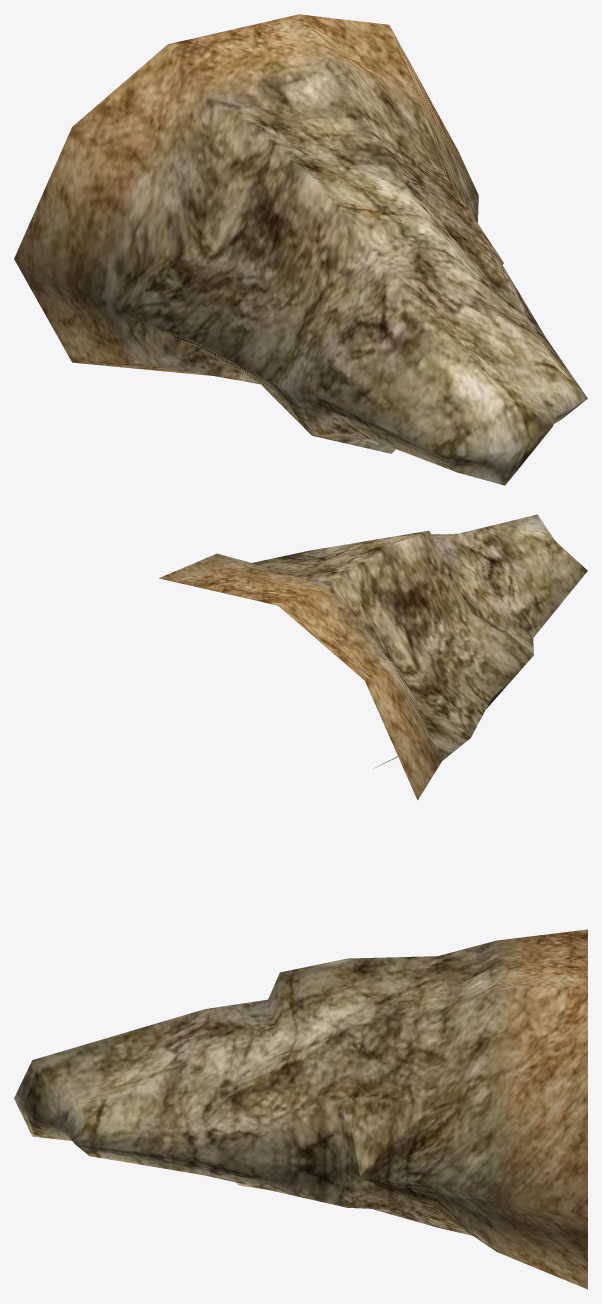
3 views of the same model, one above another, from view 1: azimuth 30°, elevation 25°; view 2: azimuth 150°, elevation 25°; view 3: azimuth 270°, elevation 25° (orthographic). The views are drawn at different scales.
Visible parts, largest first — view 1: model_Object16; view 2: model_Object16; view 3: model_Object16.
Part boxes in pixels (left/top/right/bottom): model_Object16: left=14, top=14, right=587, bottom=485; model_Object16: left=159, top=514, right=587, bottom=800; model_Object16: left=14, top=929, right=587, bottom=1289.
Size of the model in its own units: 5.53 by 3.98 by 6.95.
1 material, 1 textured.
